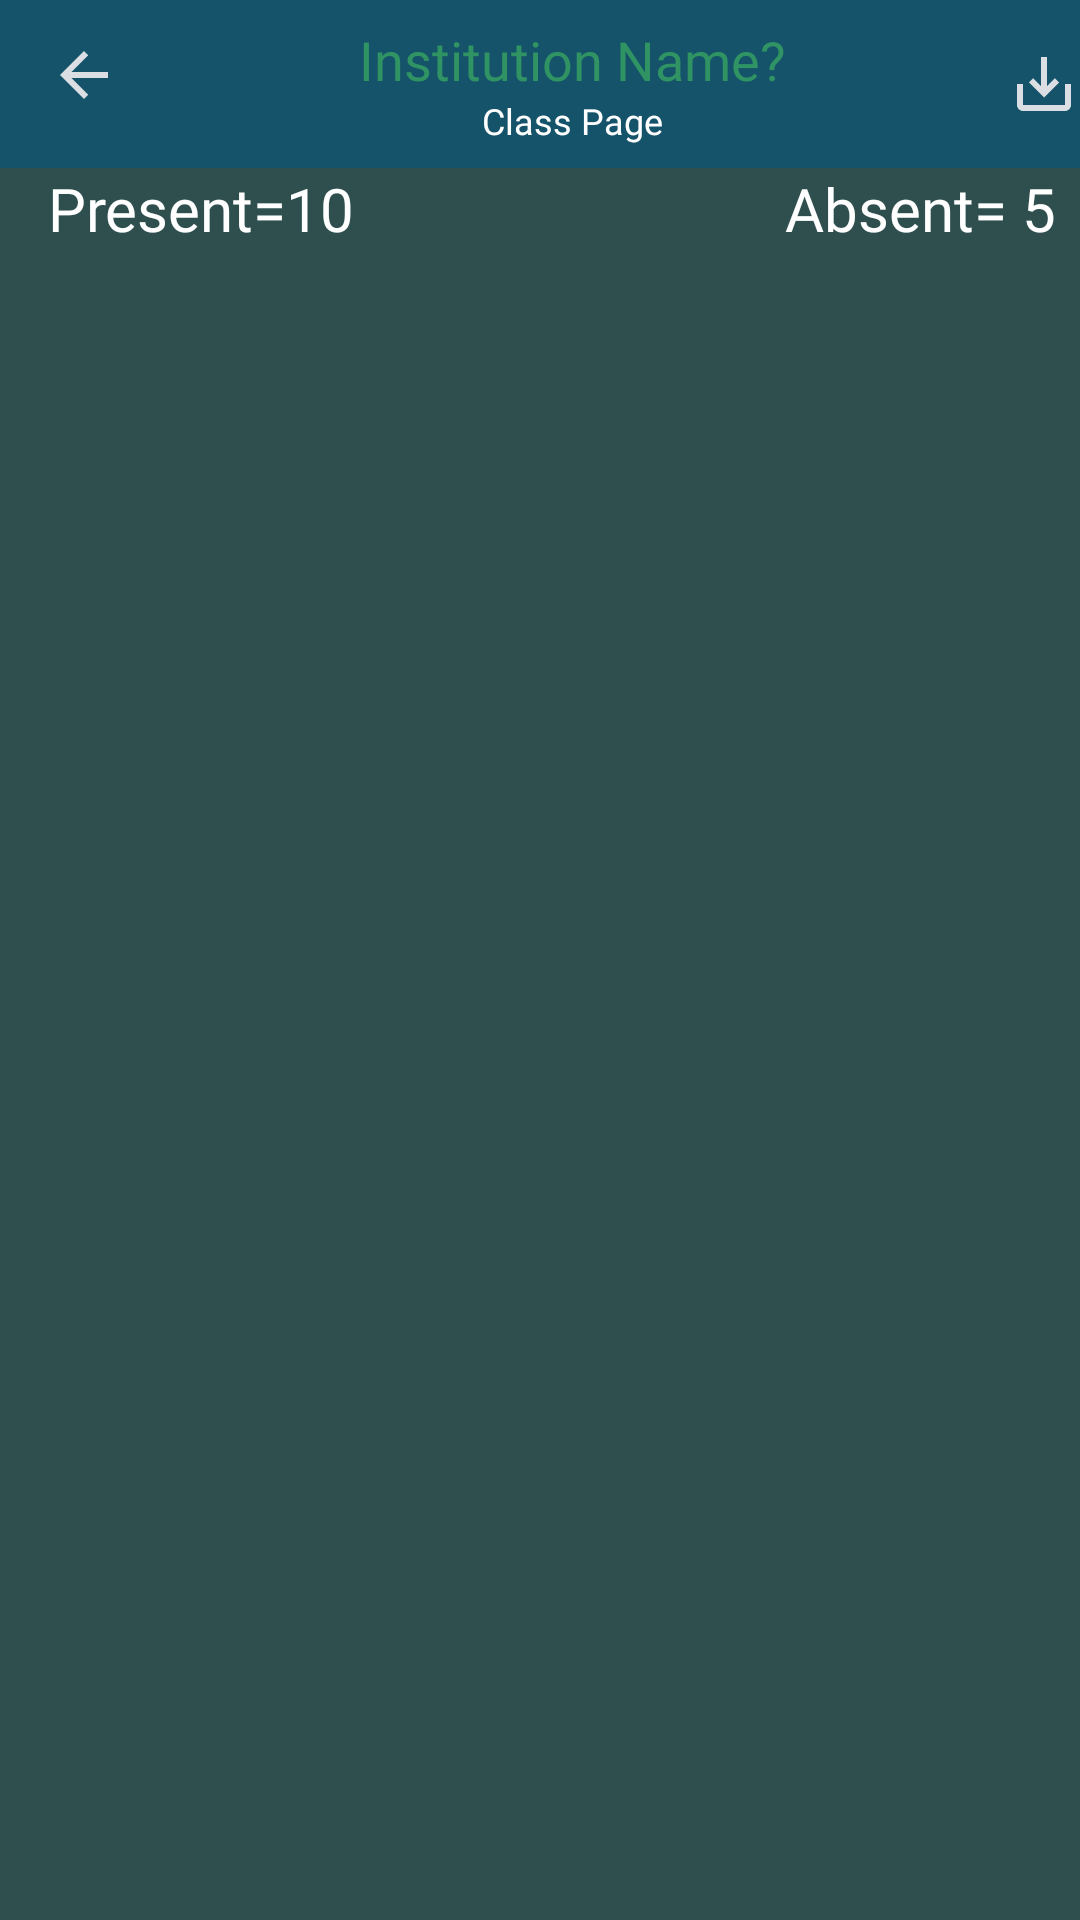

Icon bounding boxes for this 1080w x 1920h phone screenshot, format rect(x1, y1, x2, y2):
back: rect(60, 51, 108, 99)
save: rect(1017, 57, 1071, 111)
